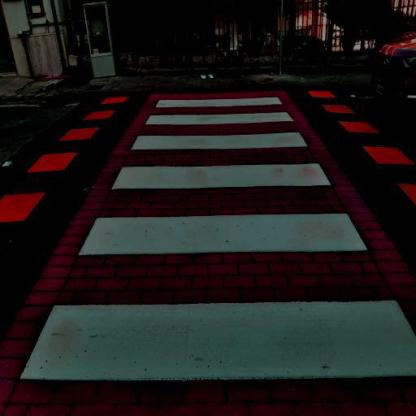crosswalk: (76, 162, 374, 260), (130, 112, 314, 150)
